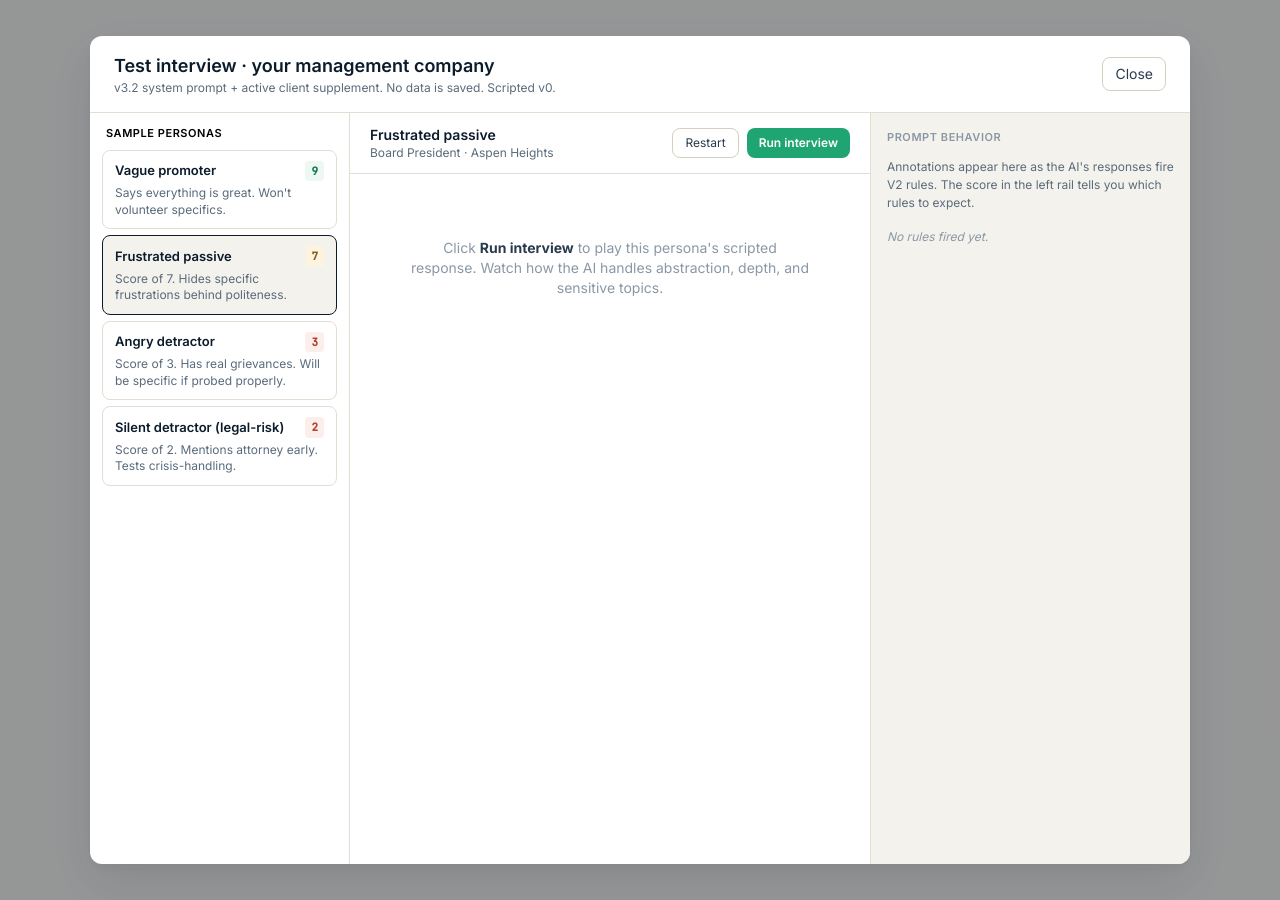
Test: TestInterviewModal › plays through the full transcript when Run is clicked, surfacing critique annotations
Click the button "Run interview".
click(798, 143)  # box [747, 128, 850, 158]
Wait 20000 ms
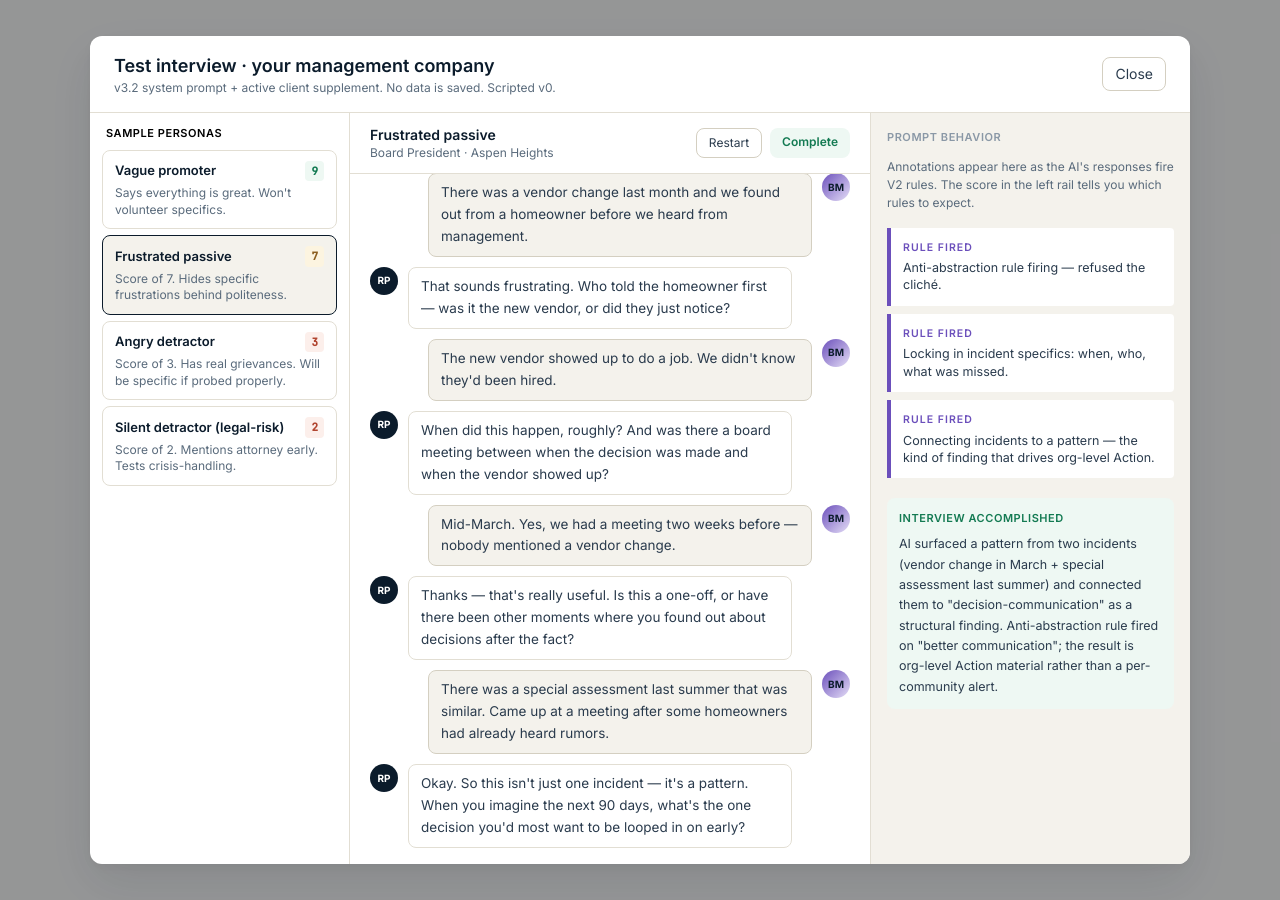
Now the text "Anti-abstraction rule firing — refused the cliché." is shown, box [903, 259, 1162, 294]
Now the text "Complete" is shown, box [770, 128, 850, 158]
